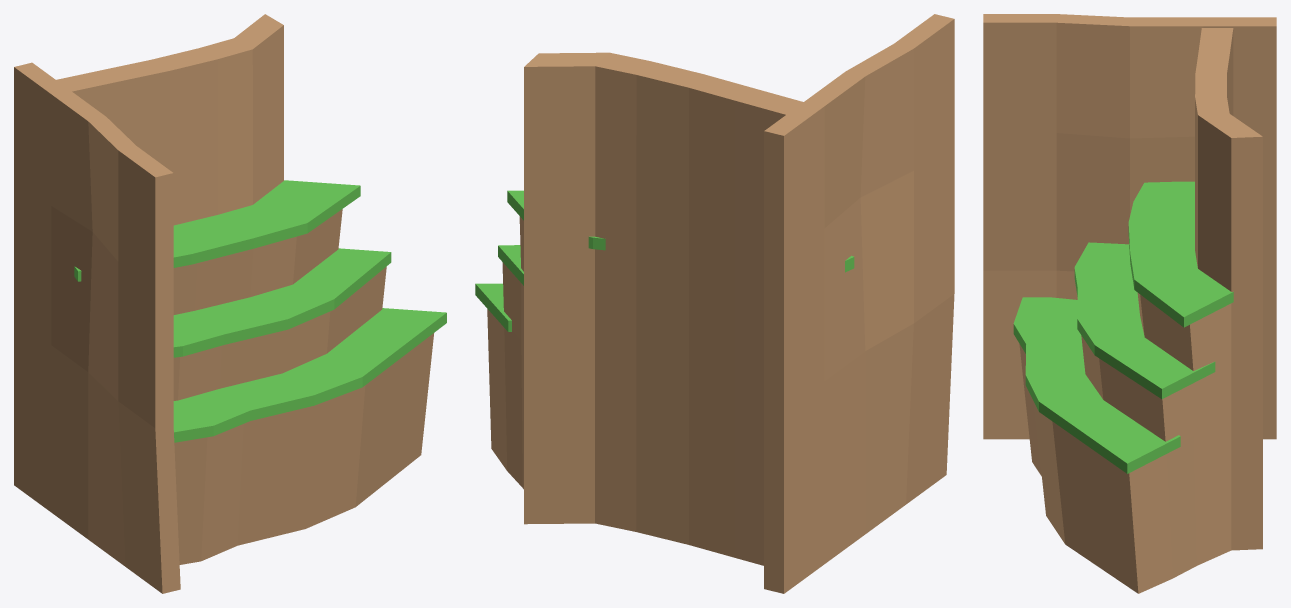
File: MenuCliffs.fbx
The picture shows the model from 3 angles, left to right: view 1: azimuth 30°, elevation 25°; view 2: azimuth 150°, elevation 25°; view 3: azimuth 270°, elevation 25°; orthographic projection. The views are drawn at different scales.
Visible parts, largest first — view 1: Cube, Cube.001; view 2: Cube, Cube.001; view 3: Cube, Cube.001.
Part boxes in pixels (x1=…): Cube: x1=14, y1=14, x2=433, y2=593; Cube.001: x1=74, y1=180, x2=446, y2=442; Cube: x1=487, y1=14, x2=954, y2=593; Cube.001: x1=475, y1=190, x2=854, y2=331; Cube: x1=983, y1=14, x2=1276, y2=593; Cube.001: x1=1013, y1=181, x2=1233, y2=473.
Bounding box in the file's own units: 4007 × 4404 × 2827.
